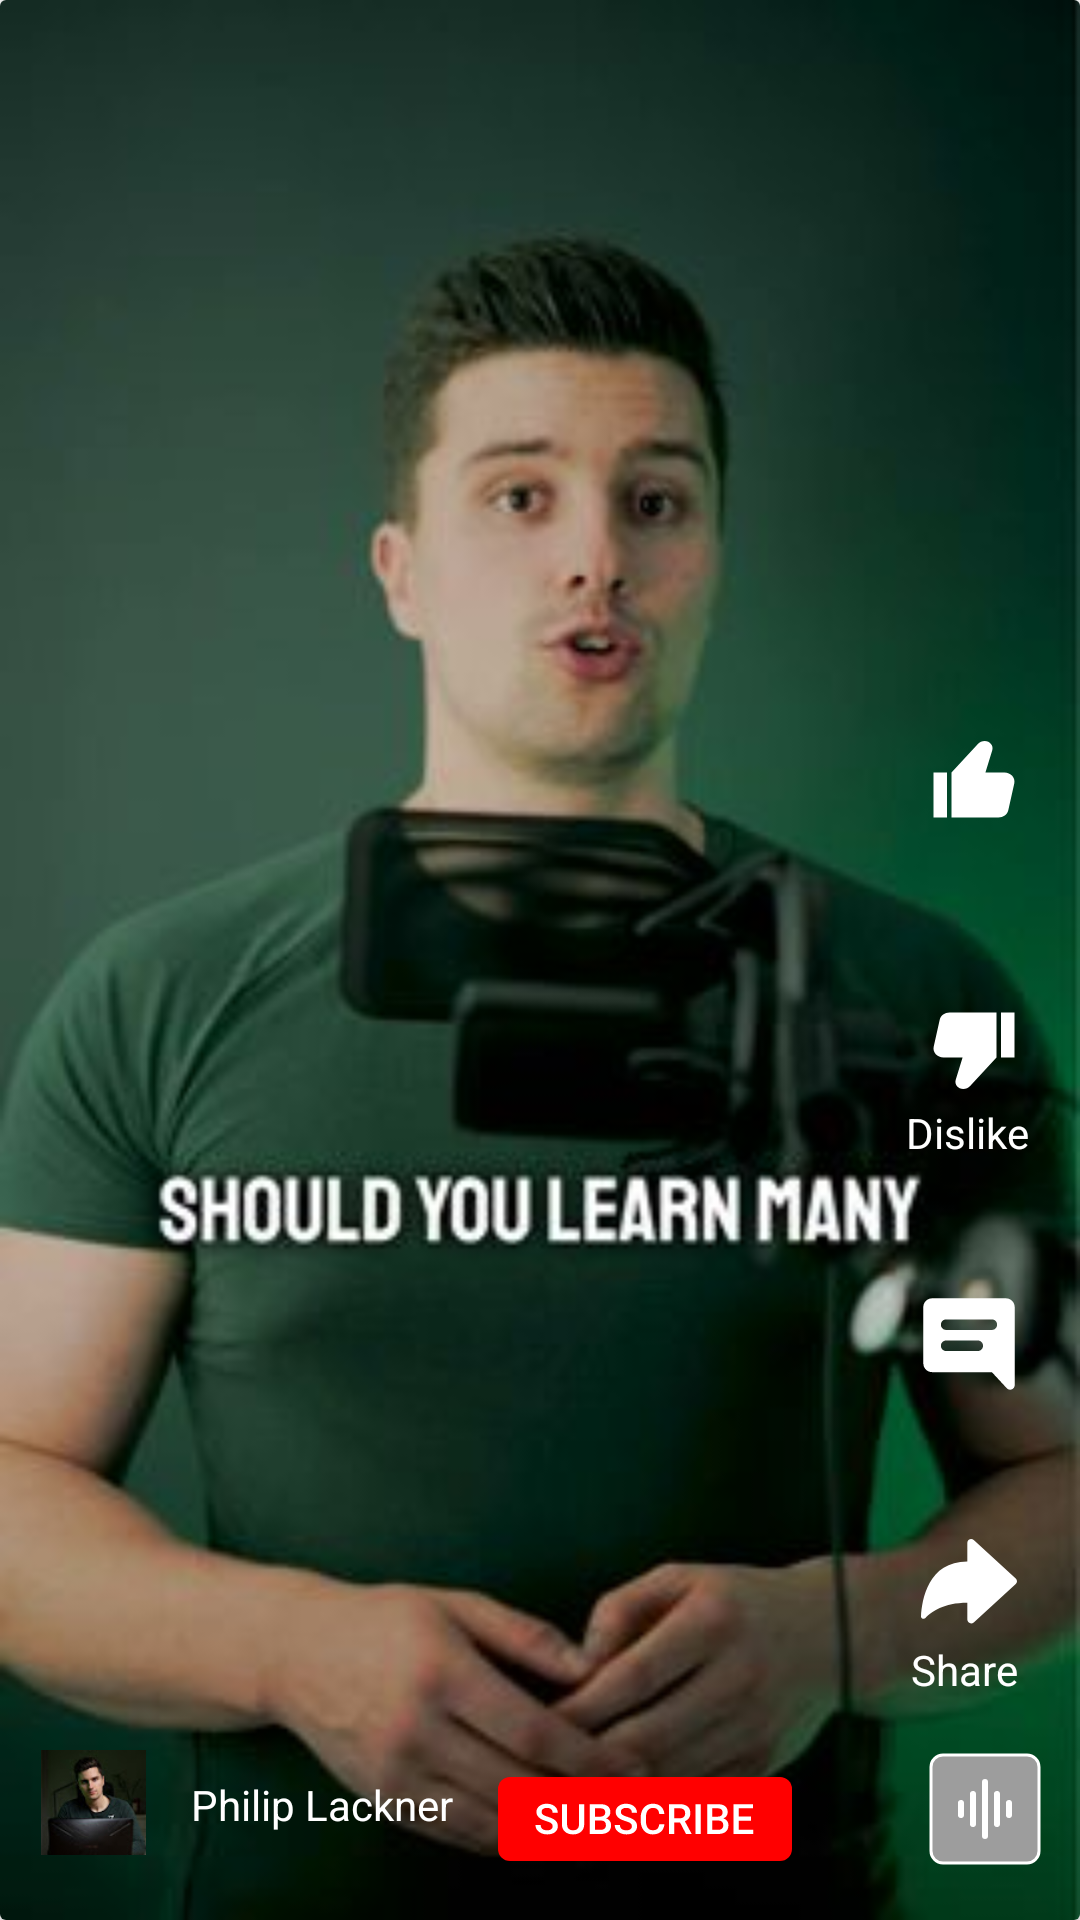

Point at icon controls on the screen. Image size 1080×1920, points as point (x, y).
shorts comment: point (969, 1344)
shorts like: point (974, 779)
shorts song: point (985, 1809)
